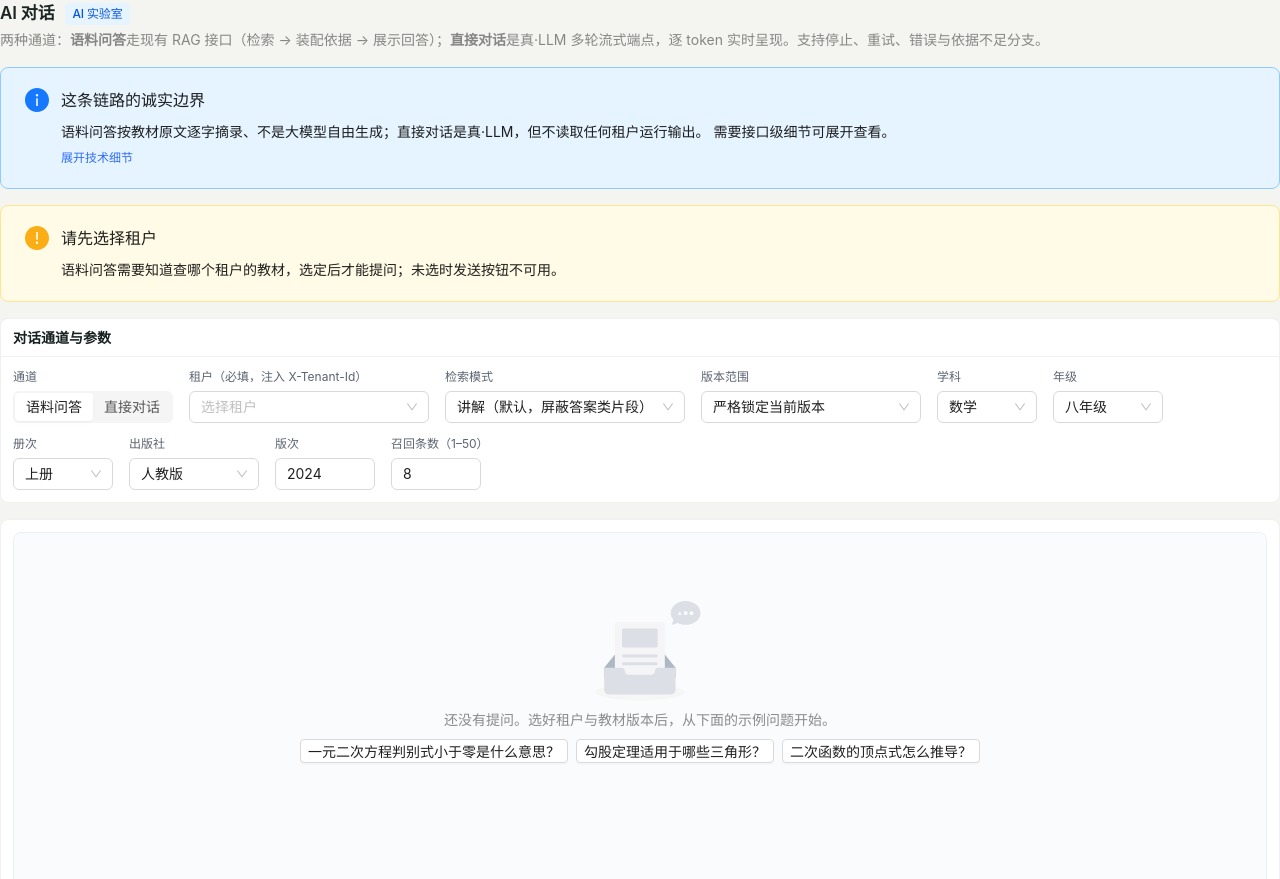
Test: AiChatPage · 完整问答流 › ✅ 429 失败：错误气泡带错误码与下一步，用户气泡保留，重试可恢复
Press the mouse on the element showing "选择租户": (309, 407) [189,391,429,423]
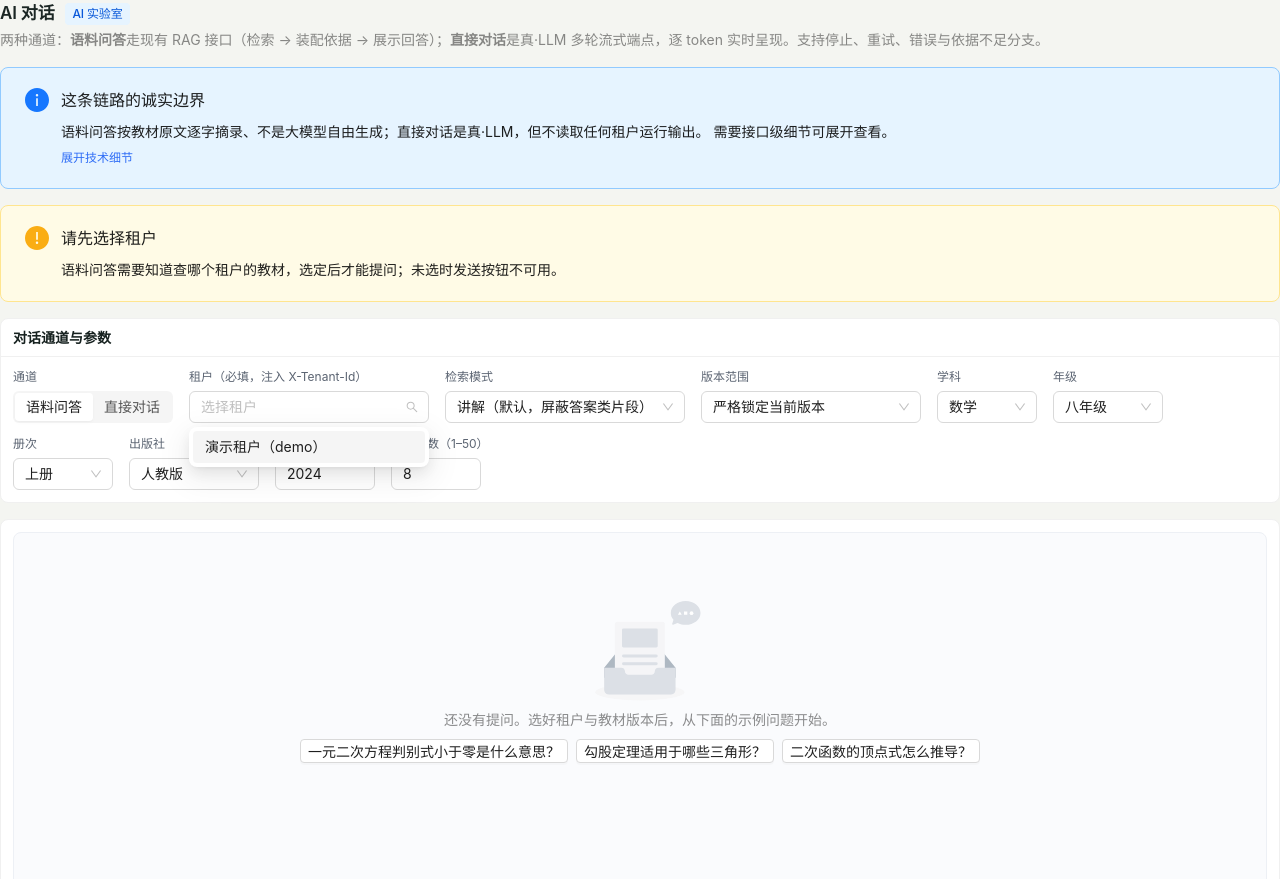
Result: the element showing "演示租户（demo）" is shown
Click the element showing "演示租户（demo）": (309, 447) [193,431,425,463]
(page scrolled)
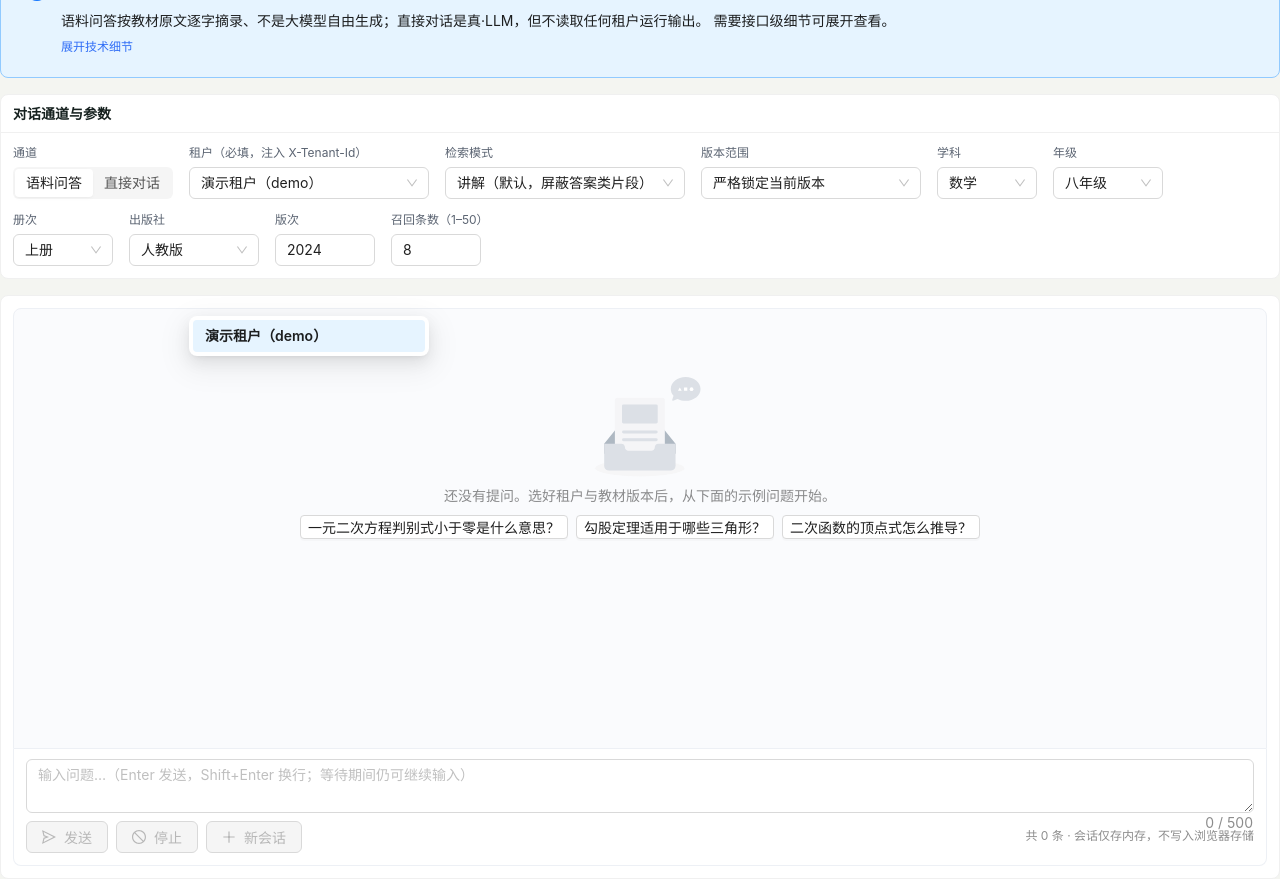
In the text box with placeholder "输入问题…（Enter 发送，Shift+Enter 换行；等待期间仍可继续输入）": (640, 786) [27,760,1253,812], type "会失败的问题"
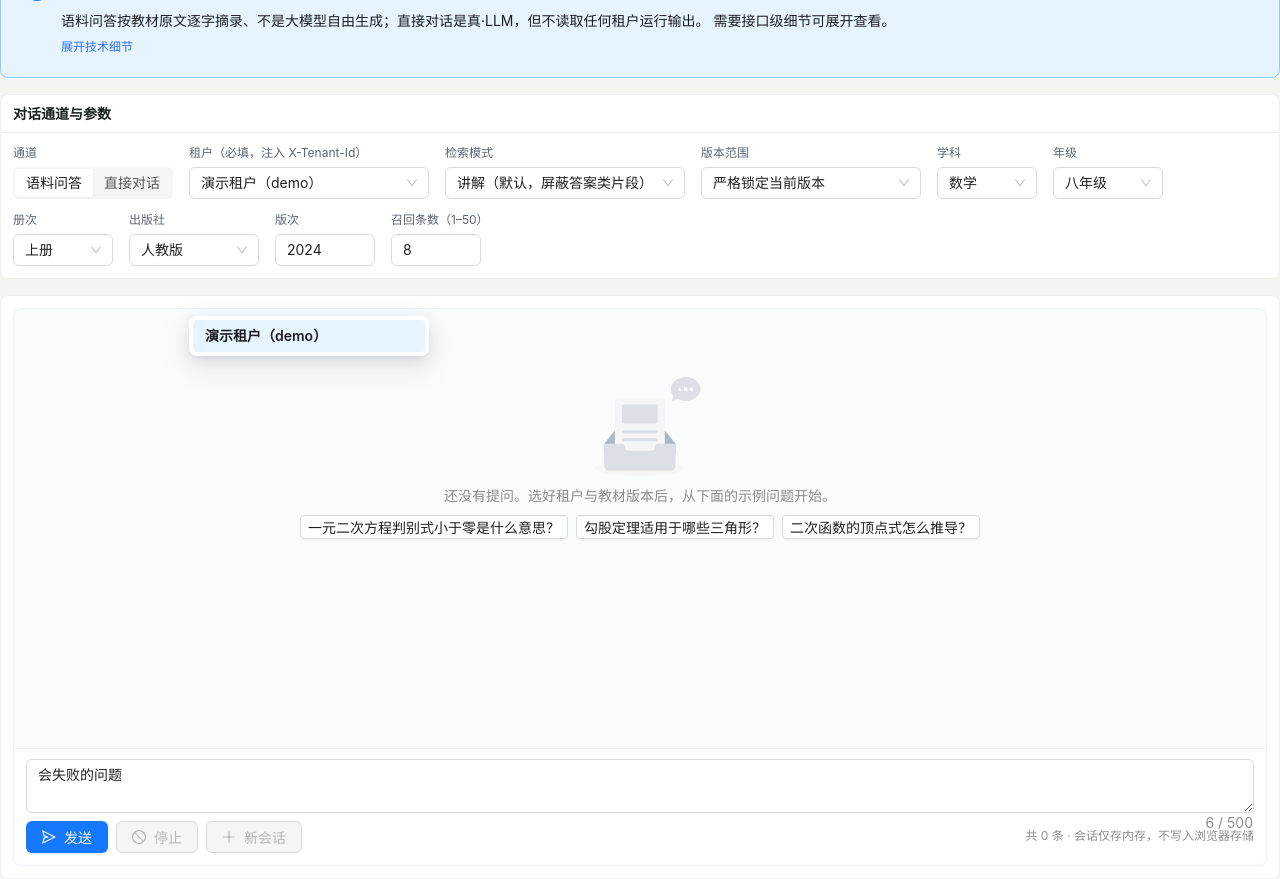
Result: the button "发送" is enabled
Click the button "发送": (67, 837) [26,821,108,853]
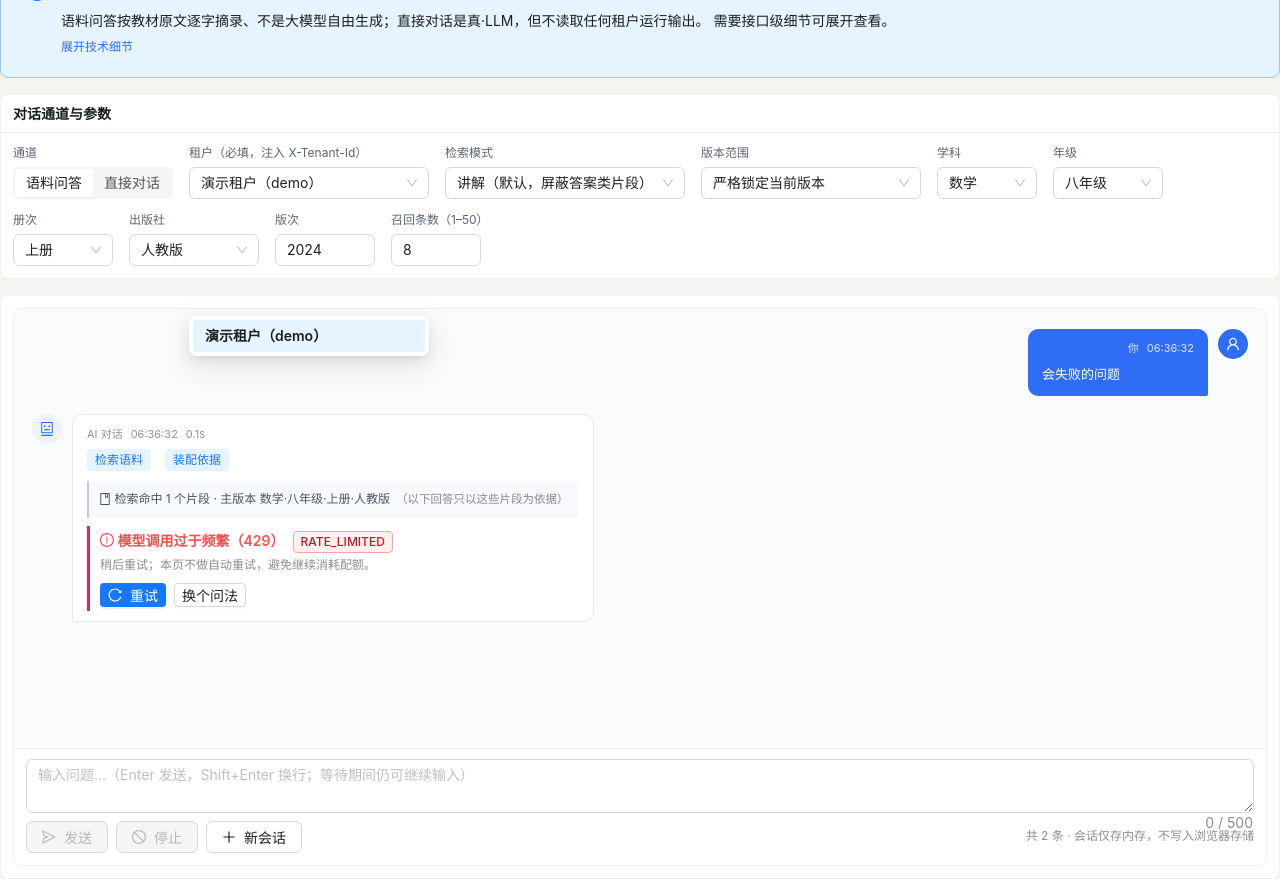
Result: the text "模型调用过于频繁（429）" is shown at [100,532,284,549]
Result: the text "RATE_LIMITED" is shown at [292,531,393,553]
Result: the text "会失败的问题" is shown at [1042,366,1120,382]
Click the button "重试": (133, 595) [100,583,166,607]
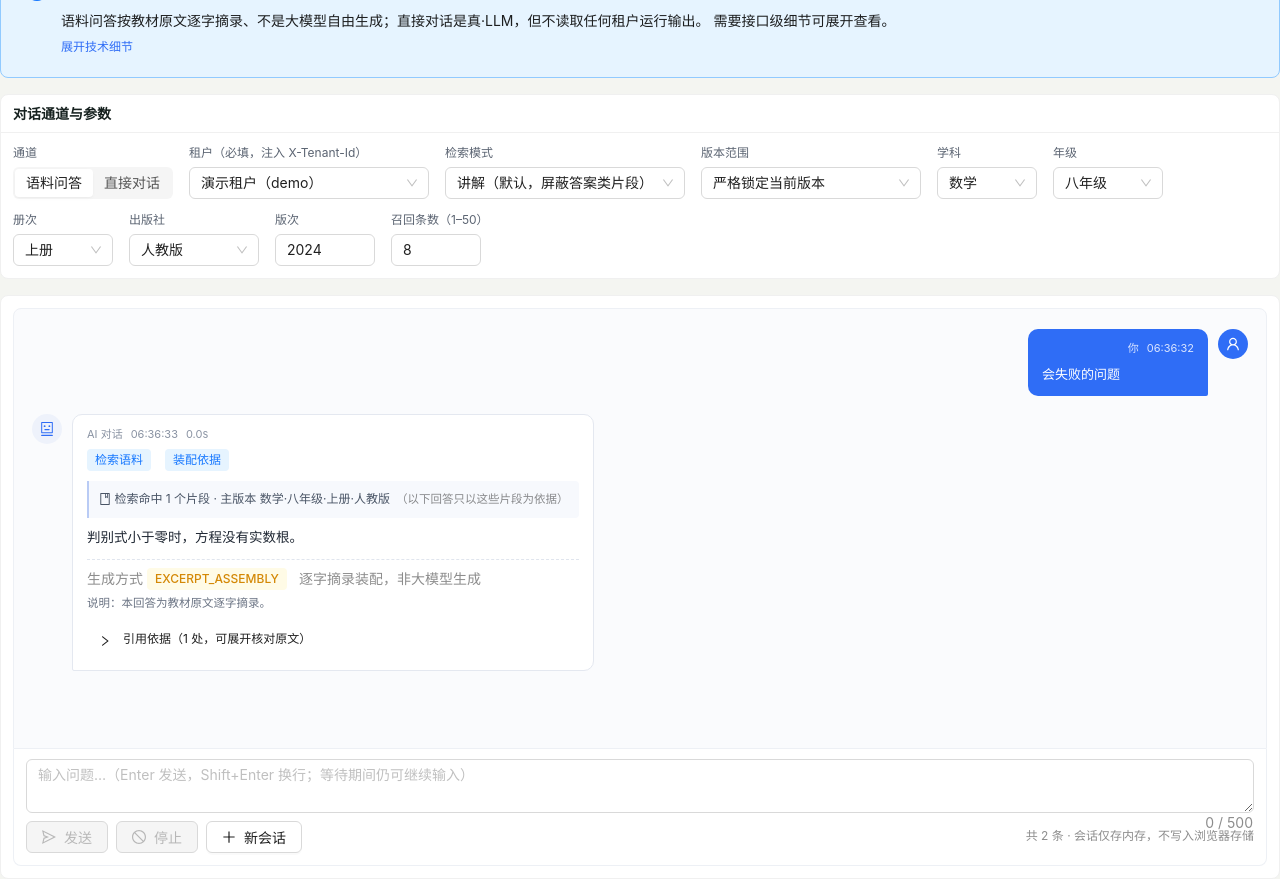
Result: the text "判别式小于零时，方程没有实数根。" is shown at [87,529,303,545]
